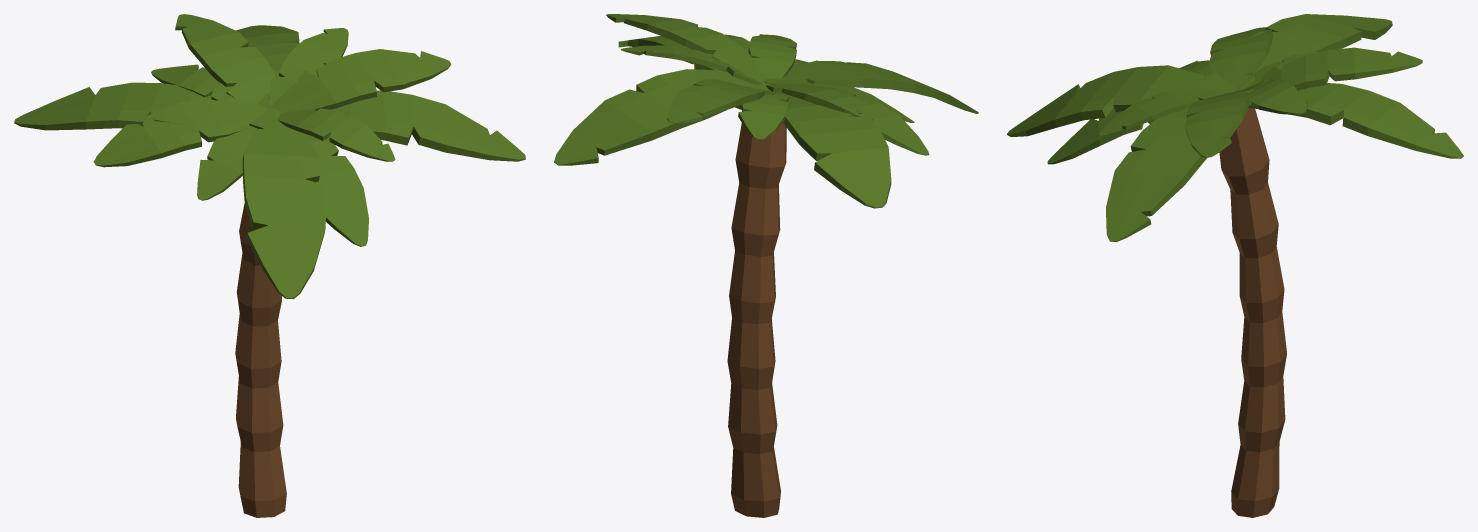
File: agac1.fbx
3 renders of one model, left to right at view 1: azimuth 30°, elevation 25°; view 2: azimuth 150°, elevation 25°; view 3: azimuth 270°, elevation 25°, orthographic. The views are drawn at different scales.
Visible parts, largest first — view 1: agac1; view 2: agac1; view 3: agac1.
Boxes of the visible parts, box(x1,y1,x2,y2) form: agac1: box(14, 14, 525, 517); agac1: box(554, 14, 978, 517); agac1: box(1007, 14, 1463, 517).
Bounding box in the file's own units: 356 × 393 × 359.
